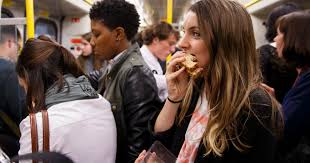eating: (161, 2, 272, 128)
